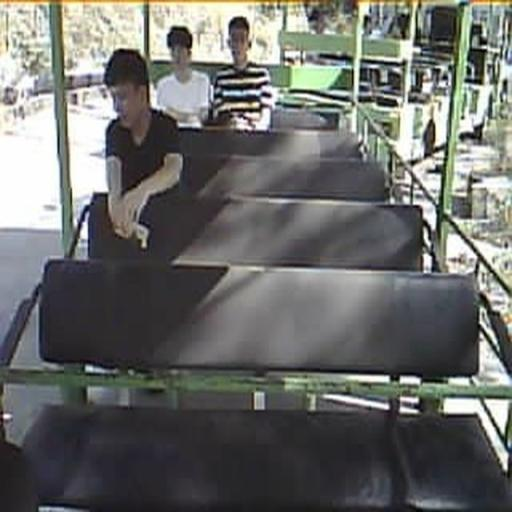persona: (102, 48, 184, 250), (210, 15, 276, 133), (155, 25, 212, 130)
